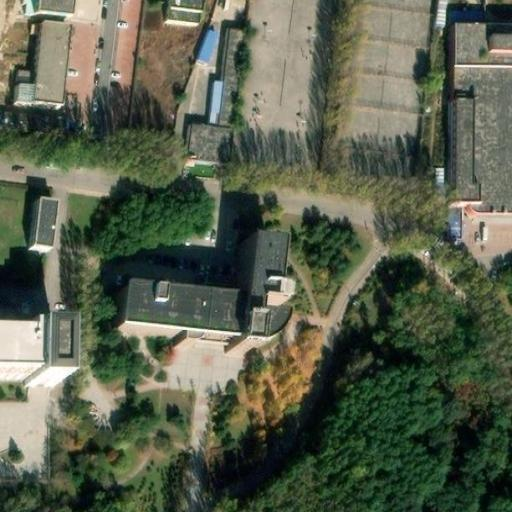building: (112, 247, 285, 353), (442, 70, 512, 218), (13, 21, 62, 116), (439, 29, 512, 70), (215, 34, 245, 131), (0, 324, 57, 375), (184, 126, 232, 168), (25, 210, 55, 262), (194, 27, 220, 64), (203, 87, 219, 129)
